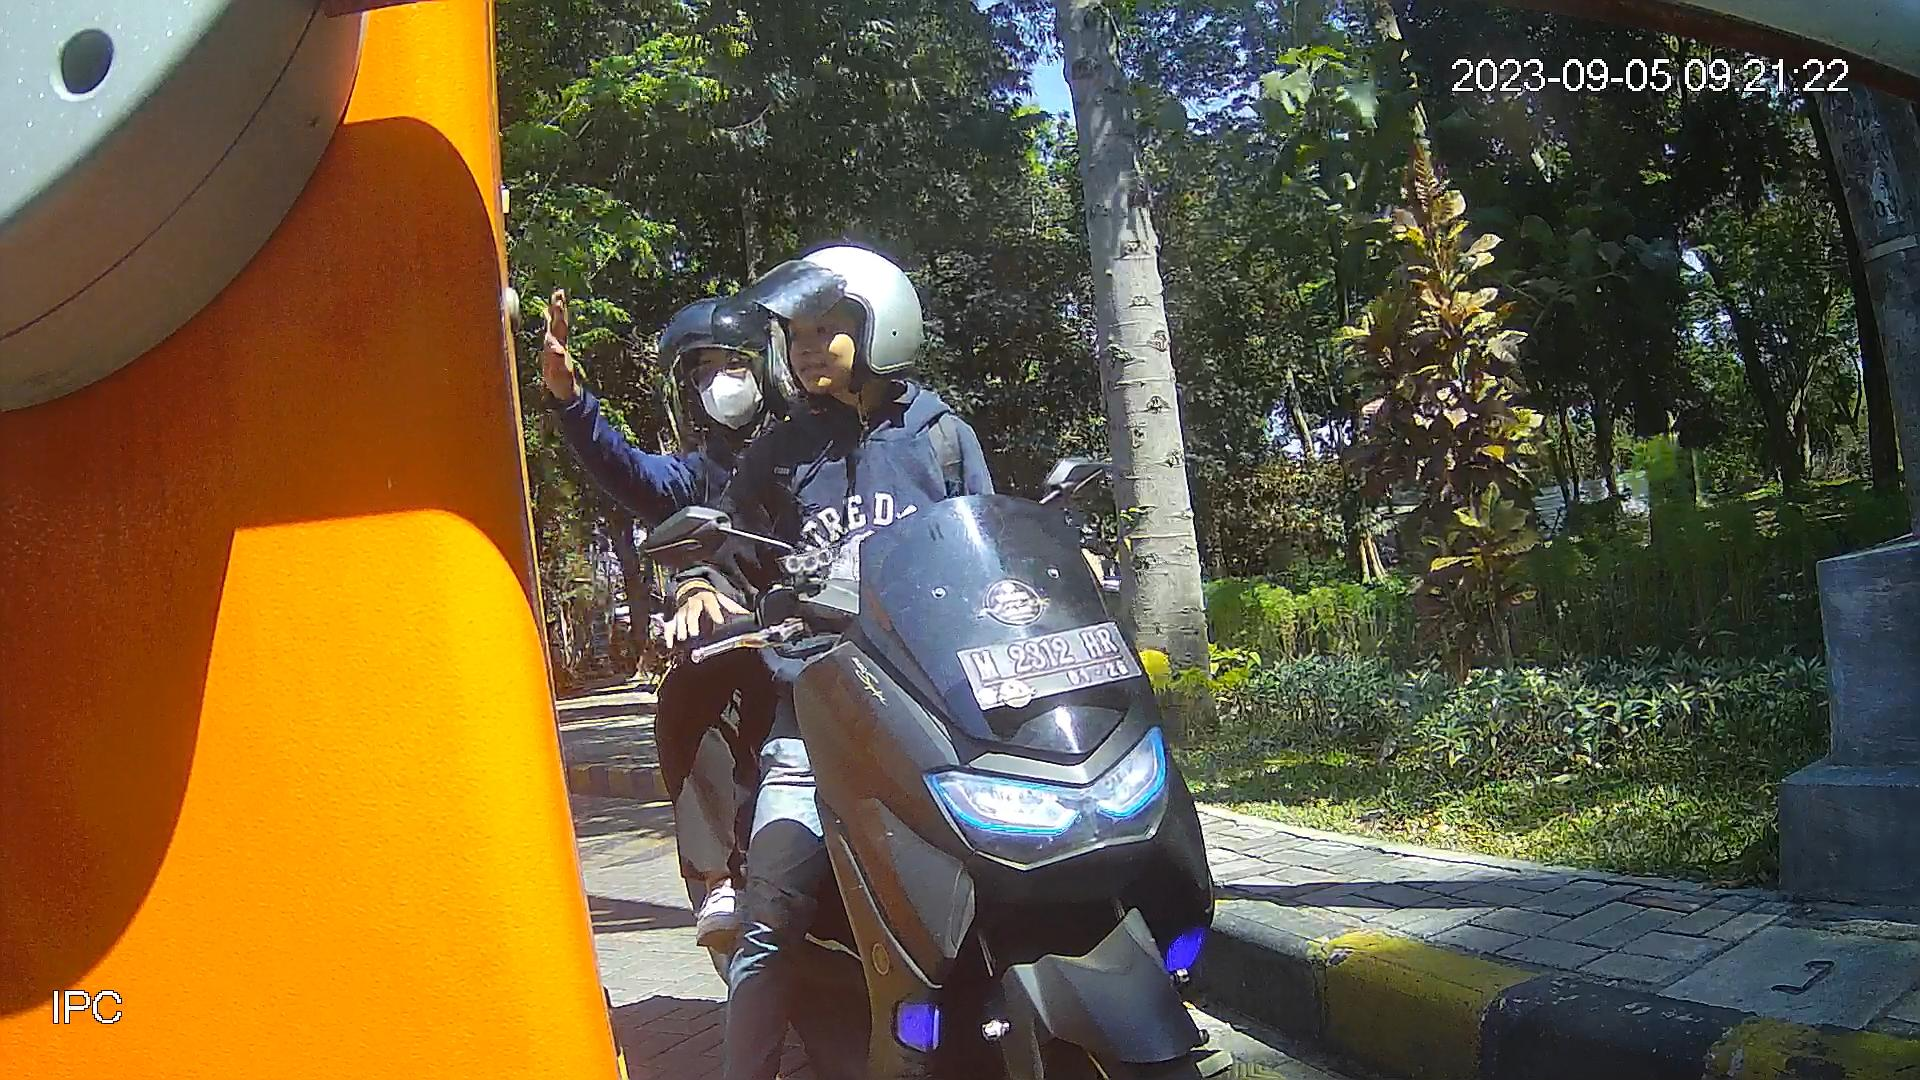plat: (952, 622, 1146, 712)
